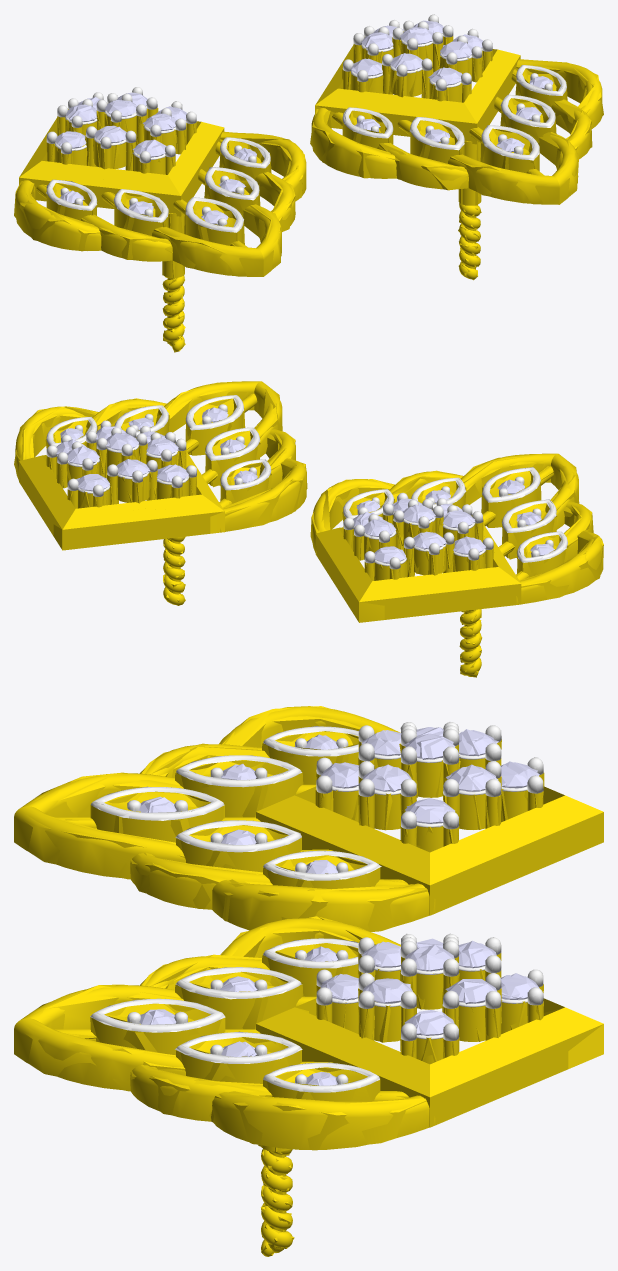
The picture shows the model from 3 angles, top to bottom: view 1: azimuth 30°, elevation 25°; view 2: azimuth 150°, elevation 25°; view 3: azimuth 270°, elevation 25°; orthographic projection. The views are drawn at different scales.
Parts seen in each view (by area): view 1: highPolyMesh, lowPolyMesh; view 2: highPolyMesh, lowPolyMesh; view 3: highPolyMesh, lowPolyMesh.
Part boxes in pixels (x1,y1,x2,y2): highPolyMesh: [15, 14, 602, 351]; lowPolyMesh: [14, 14, 603, 352]; highPolyMesh: [15, 381, 603, 677]; lowPolyMesh: [14, 381, 603, 677]; highPolyMesh: [14, 706, 603, 1256]; lowPolyMesh: [14, 706, 603, 1255].
Bounding box in the file's own units: 0.0315 × 0.0112 × 0.0194.
